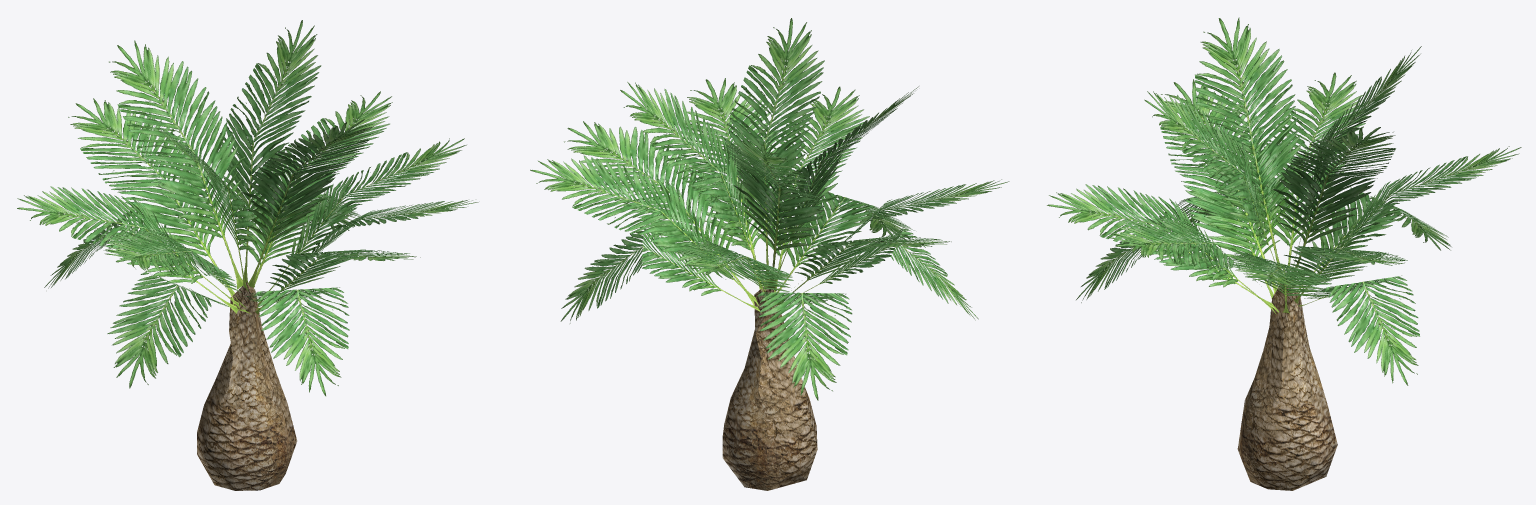
Rendered from Hyp_LOD1.fbx.
3 views of the same model, side by side, from view 1: azimuth 30°, elevation 25°; view 2: azimuth 150°, elevation 25°; view 3: azimuth 270°, elevation 25° (orthographic).
Visible parts, largest first — view 1: Mesh Object; view 2: Mesh Object; view 3: Mesh Object.
Part boxes in pixels (x1,y1,x2,y2): Mesh Object: [17, 20, 478, 490]; Mesh Object: [530, 18, 1009, 490]; Mesh Object: [1047, 17, 1521, 490].
Bounding box in the file's own units: 12.49 × 10.98 × 11.78.
